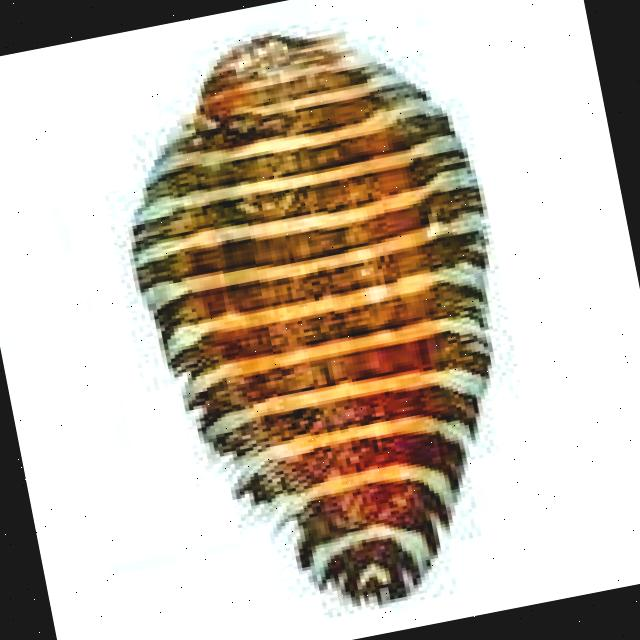fish: (83, 0, 559, 640)
